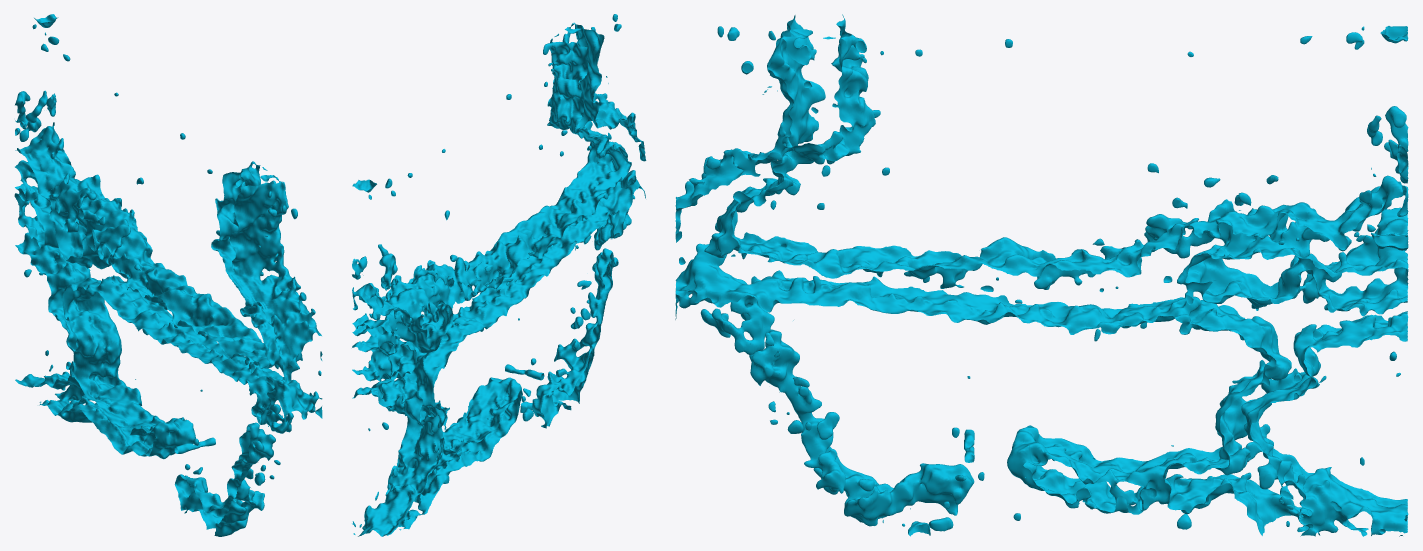
Rendered from image-package-2_marching_cubes.glb.
3 renders of one model, left to right at view 1: azimuth 30°, elevation 25°; view 2: azimuth 150°, elevation 25°; view 3: azimuth 270°, elevation 25°, orthographic. The views are drawn at different scales.
Parts seen in each view (by area): view 1: neuron; view 2: neuron; view 3: neuron.
Part boxes in pixels (x1=…): neuron: x1=14, y1=14, x2=322, y2=536; neuron: x1=352, y1=14, x2=646, y2=536; neuron: x1=675, y1=14, x2=1408, y2=536.
Bounding box in the file's own units: 31.38 × 286 × 381.
